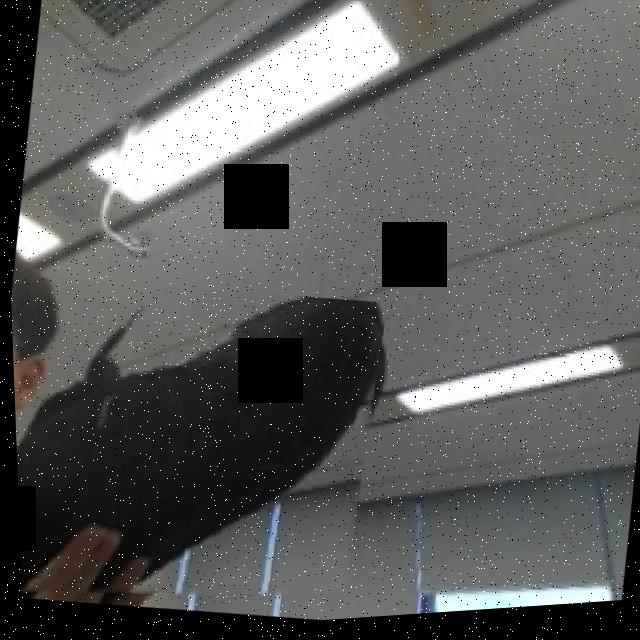shoe: (8, 255, 395, 640)
